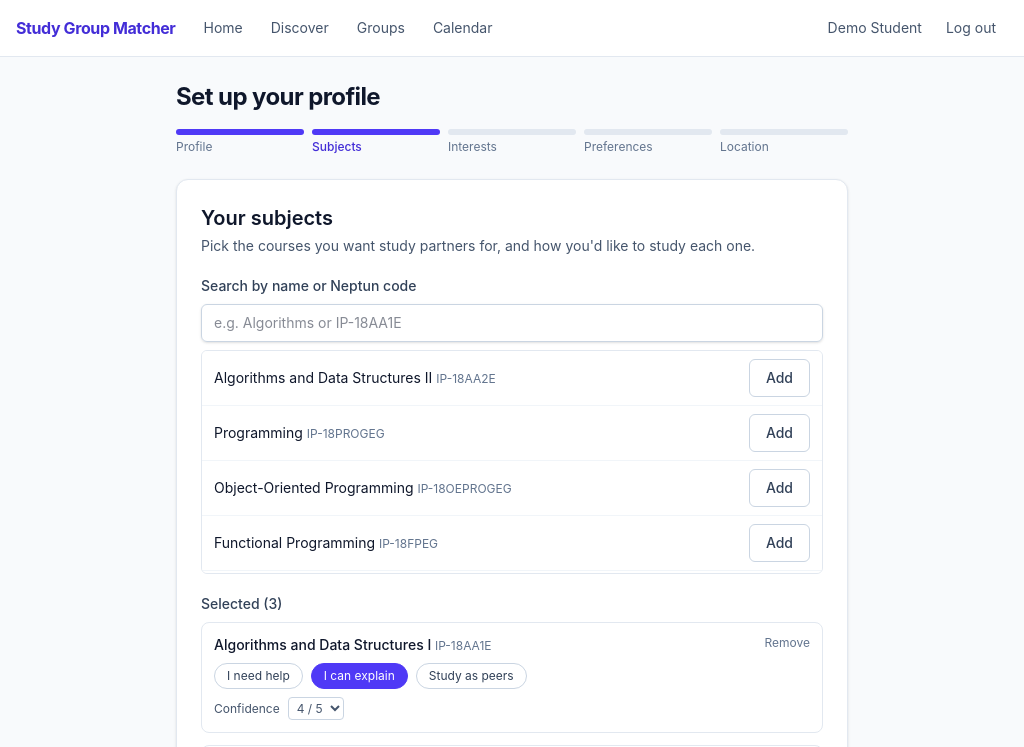
Onboarding: subjects step › loads saved subjects, adds one from search with a role, and saves
The image size is (1024, 747).
Expected: the heading "Selected (3)" is shown, [201,595,282,612]
Type "IP-18KRIP" into the search field labelled "Search by name or Neptun code" at x=512, y=323, box [201,304,823,342]
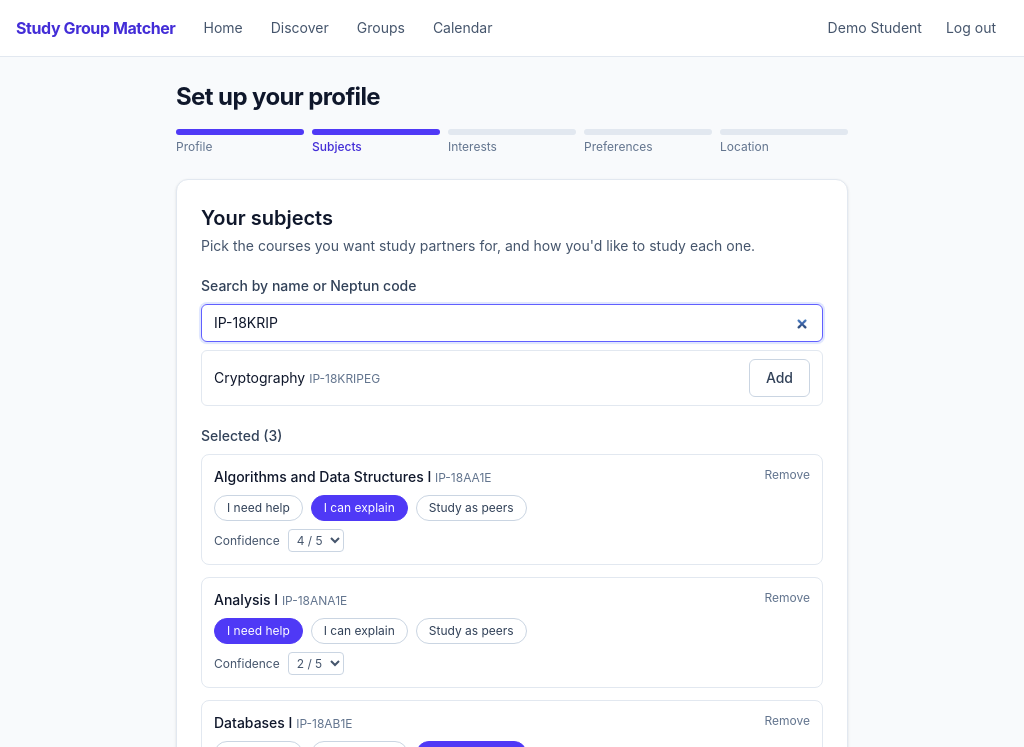
Click the button with aria-label "Add Cryptography" at x=779, y=378, box [749,359,810,397]
(page scrolled)
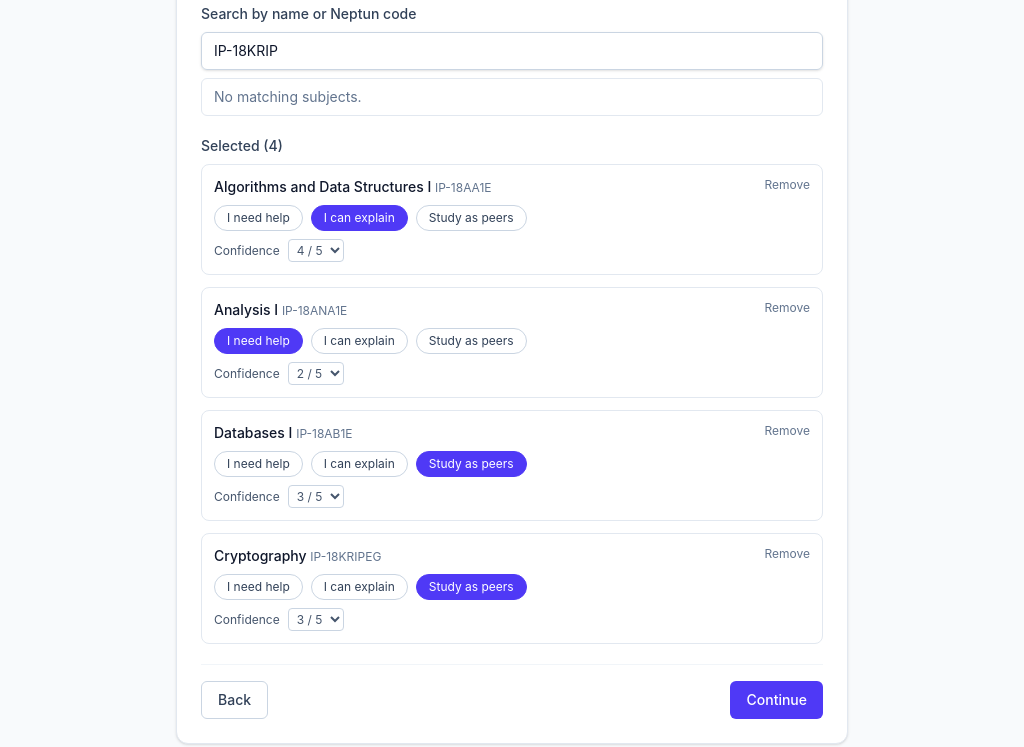
Result: the heading "Selected (4)" is shown at [201,137,283,154]
Click the radio button labelled "I need help" below "Cryptography" at x=258, y=587, box [214,574,303,600]
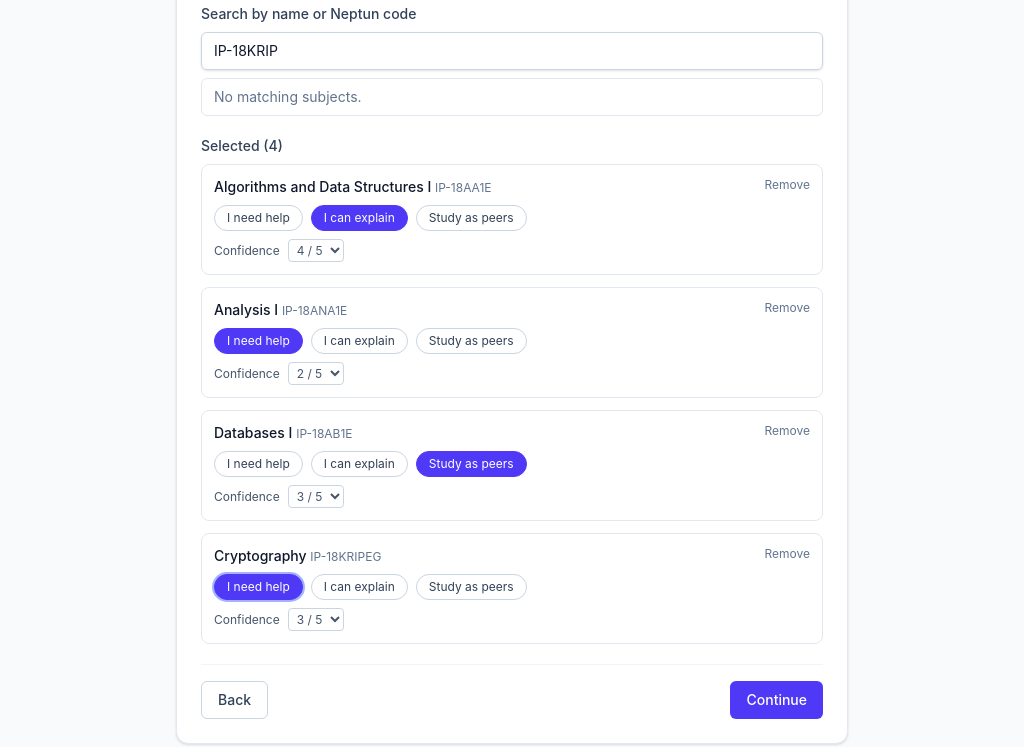
Select "2 / 5" in the dropdown named "Confidence in Cryptography" at x=316, y=620, box [288,608,344,631]
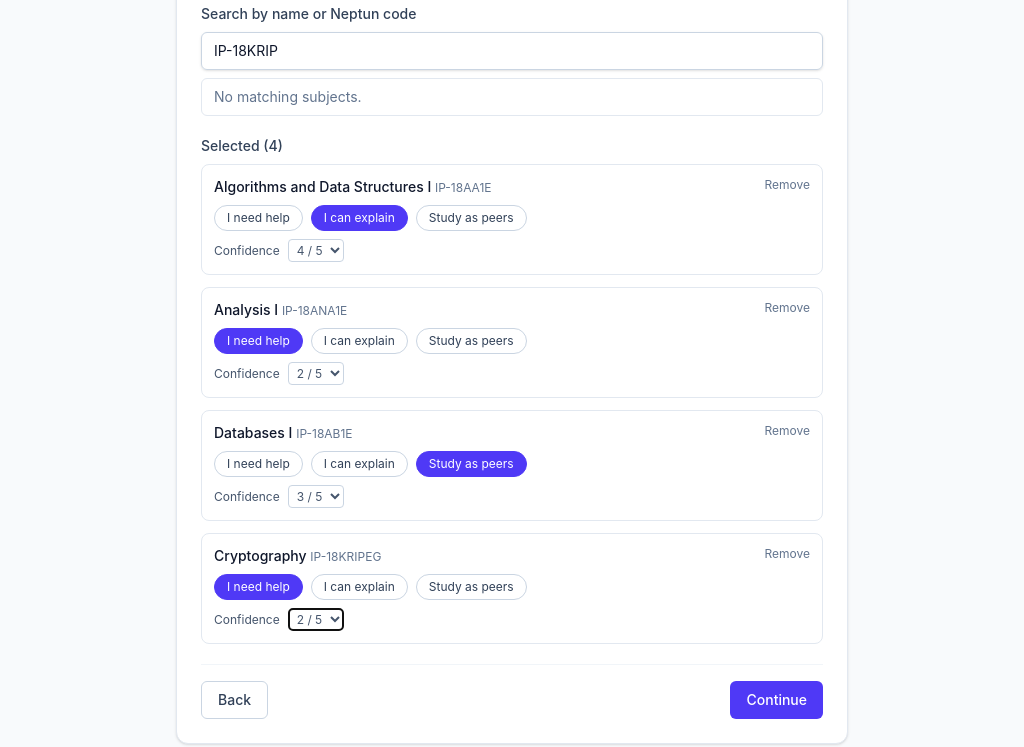
Click the button "Continue" at x=777, y=700, box [730,681,823,719]
(page scrolled)
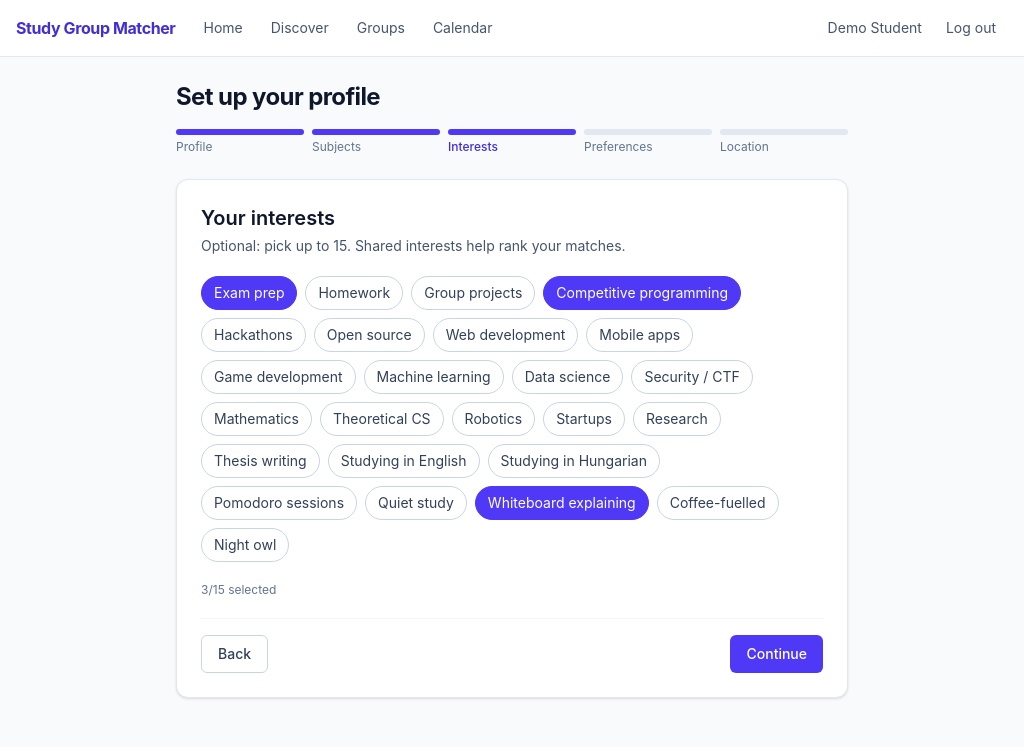
Result: the heading "Your interests" is shown at [201,206,335,230]
